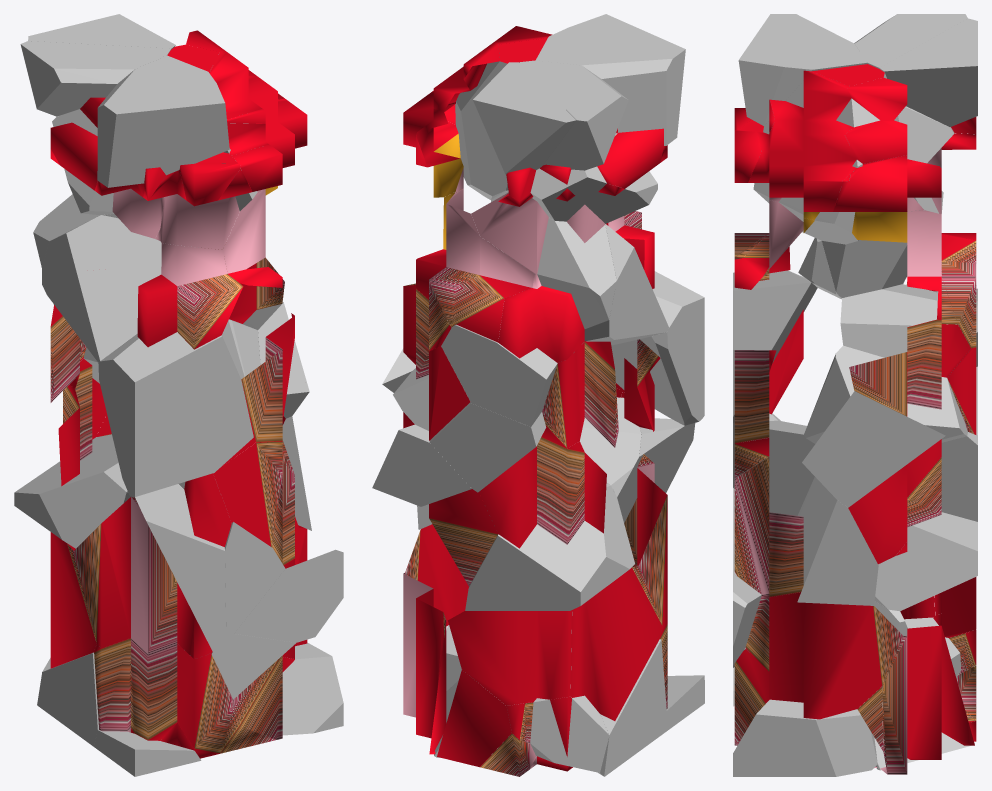
The model's file is destroyedLighthouse.obj.
The picture shows the model from 3 angles, left to right: view 1: azimuth 30°, elevation 25°; view 2: azimuth 150°, elevation 25°; view 3: azimuth 270°, elevation 25°; orthographic projection. The views are drawn at different scales.
Parts seen in each view (by area): view 1: lighthouse_cell.050_lighthouse_cell.048, lighthouse_cell.077_lighthouse_cell.097, lighthouse_cell.018_lighthouse_cell.017, lighthouse_cell.083_lighthouse_cell.103, lighthouse_cell.026_lighthouse_cell.025, lighthouse_cell.006_lighthouse_cell.005, lighthouse_cell.015_lighthouse_cell.014, lighthouse_cell.085_lighthouse_cell.105, lighthouse_cell.005_lighthouse_cell.004, lighthouse_cell.002_lighthouse_cell.001, lighthouse_cell.013_lighthouse_cell.012, lighthouse_cell.052_lighthouse_cell.050 (+29 smaller); view 2: lighthouse_cell.085_lighthouse_cell.105, lighthouse_cell.077_lighthouse_cell.097, lighthouse_cell.016_lighthouse_cell.015, lighthouse_cell.004_lighthouse_cell.003, lighthouse_cell.022_lighthouse_cell.021, lighthouse_cell.050_lighthouse_cell.048, lighthouse_cell.047_lighthouse_cell.045, lighthouse_cell.023_lighthouse_cell.022, lighthouse_cell.012_lighthouse_cell.011, lighthouse_cell.005_lighthouse_cell.004, lighthouse_cell.001_lighthouse_cell.000, lighthouse_cell.009_lighthouse_cell.008 (+35 smaller); view 3: lighthouse_cell.053_lighthouse_cell.051, lighthouse_cell.013_lighthouse_cell.012, lighthouse_cell.012_lighthouse_cell.011, lighthouse_cell.065_lighthouse_cell.063, lighthouse_cell.014_lighthouse_cell.013, lighthouse_cell.077_lighthouse_cell.097, lighthouse_cell.081_lighthouse_cell.101, lighthouse_cell.085_lighthouse_cell.105, lighthouse_cell.047_lighthouse_cell.045, lighthouse_cell.067_lighthouse_cell.089, lighthouse_cell.063_lighthouse_cell.061, lighthouse_cell.055_lighthouse_cell.053 (+34 smaller).
Boxes of the visible parts, <box> form: lighthouse_cell.050_lighthouse_cell.048: <box>98,332,253,497</box>; lighthouse_cell.077_lighthouse_cell.097: <box>97,55,229,187</box>; lighthouse_cell.018_lighthouse_cell.017: <box>74,496,212,659</box>; lighthouse_cell.083_lighthouse_cell.103: <box>42,215,191,362</box>; lighthouse_cell.026_lighthouse_cell.025: <box>94,638,233,748</box>; lighthouse_cell.006_lighthouse_cell.005: <box>137,243,243,349</box>; lighthouse_cell.015_lighthouse_cell.014: <box>135,484,226,651</box>; lighthouse_cell.085_lighthouse_cell.105: <box>14,434,127,548</box>; lighthouse_cell.005_lighthouse_cell.004: <box>20,41,170,116</box>; lighthouse_cell.002_lighthouse_cell.001: <box>234,549,343,642</box>; lighthouse_cell.013_lighthouse_cell.012: <box>209,52,307,191</box>; lighthouse_cell.052_lighthouse_cell.050: <box>213,441,282,547</box>; lighthouse_cell.085_lighthouse_cell.105: <box>465,483,634,610</box>; lighthouse_cell.077_lighthouse_cell.097: <box>536,14,685,145</box>; lighthouse_cell.016_lighthouse_cell.015: <box>448,610,572,705</box>; lighthouse_cell.004_lighthouse_cell.003: <box>479,427,606,548</box>; lighthouse_cell.022_lighthouse_cell.021: <box>570,565,662,720</box>; lighthouse_cell.050_lighthouse_cell.048: <box>611,271,704,425</box>; lighthouse_cell.047_lighthouse_cell.045: <box>473,62,576,174</box>; lighthouse_cell.023_lighthouse_cell.022: <box>441,324,557,426</box>; lighthouse_cell.012_lighthouse_cell.011: <box>403,573,446,754</box>; lighthouse_cell.005_lighthouse_cell.004: <box>519,60,628,170</box>; lighthouse_cell.001_lighthouse_cell.000: <box>542,341,618,448</box>; lighthouse_cell.009_lighthouse_cell.008: <box>429,396,546,492</box>; lighthouse_cell.053_lighthouse_cell.051: <box>745,592,903,719</box>; lighthouse_cell.013_lighthouse_cell.012: <box>748,70,856,219</box>; lighthouse_cell.012_lighthouse_cell.011: <box>880,625,974,774</box>; lighthouse_cell.065_lighthouse_cell.063: <box>733,698,877,776</box>; lighthouse_cell.014_lighthouse_cell.013: <box>802,391,945,507</box>; lighthouse_cell.077_lighthouse_cell.097: <box>738,14,867,125</box>; lighthouse_cell.081_lighthouse_cell.101: <box>734,457,803,596</box>; lighthouse_cell.085_lighthouse_cell.105: <box>874,512,977,611</box>; lighthouse_cell.047_lighthouse_cell.045: <box>879,18,977,126</box>; lighthouse_cell.067_lighthouse_cell.089: <box>849,319,970,416</box>; lighthouse_cell.063_lighthouse_cell.061: <box>833,155,941,242</box>; lighthouse_cell.055_lighthouse_cell.053: <box>743,420,837,592</box>.
Size of the model in its own units: 7.1 by 21.1 by 7.1.
